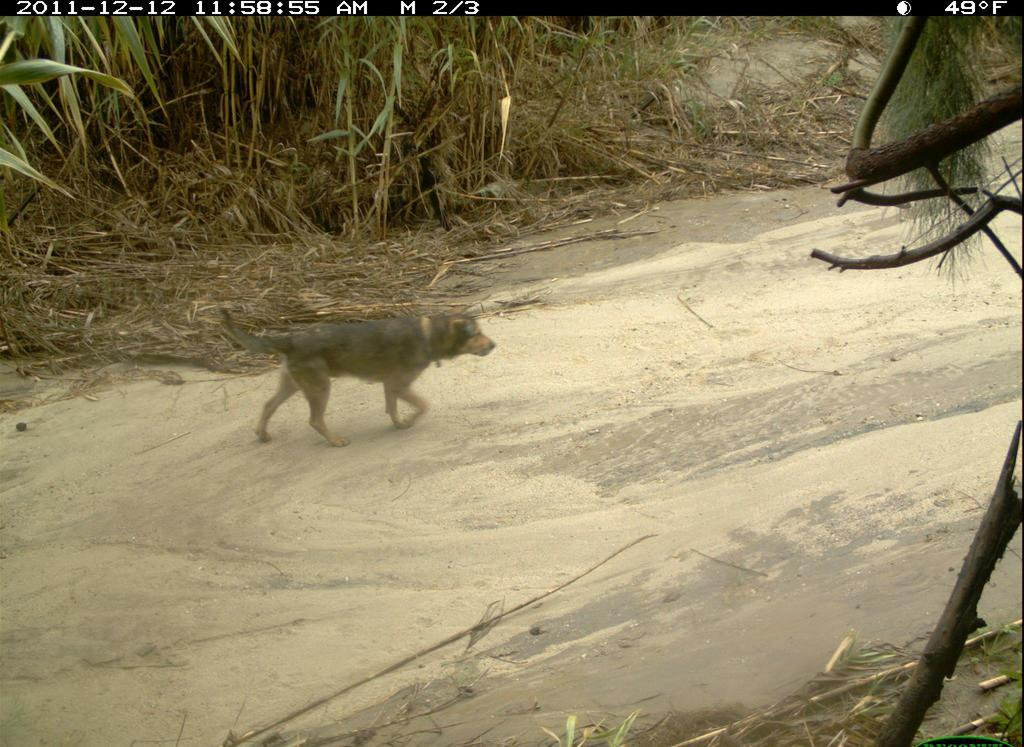dog: (196, 283, 559, 466)
